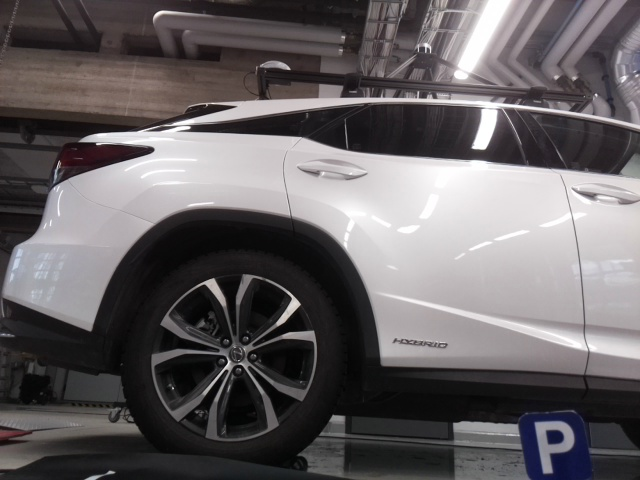Parking: (517, 412, 593, 479)
